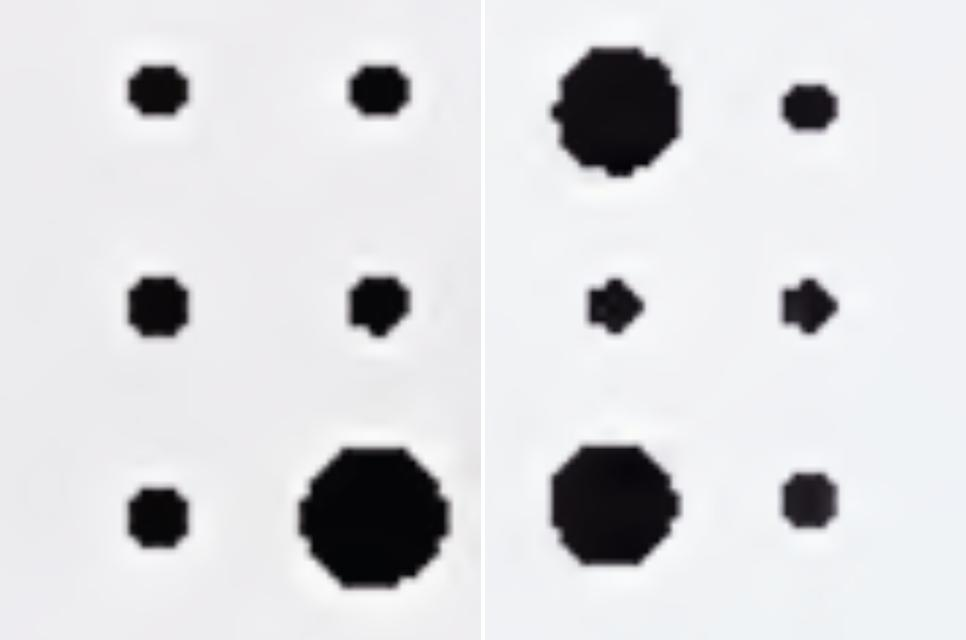K: (547, 45, 840, 574)
capital: (126, 66, 451, 589)
